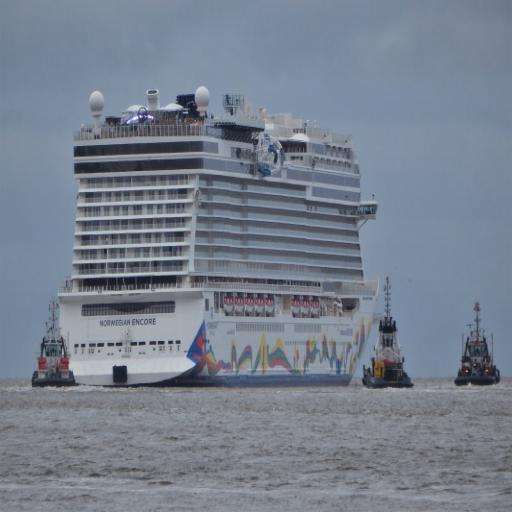cruises: (58, 62, 381, 391)
